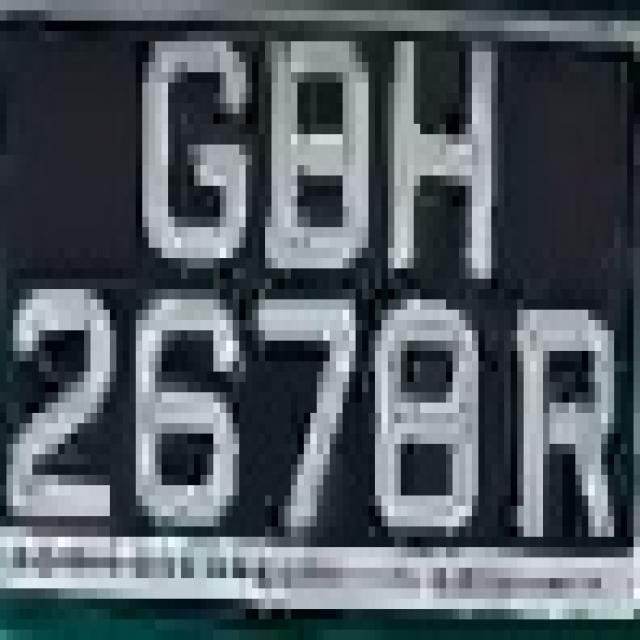2: (0, 248, 123, 578)
6: (122, 279, 245, 547)
7: (233, 248, 362, 568)
8: (362, 289, 498, 568)
B: (265, 21, 388, 299)
G: (136, 21, 258, 289)
H: (375, 11, 504, 300)
R: (504, 268, 621, 558)
